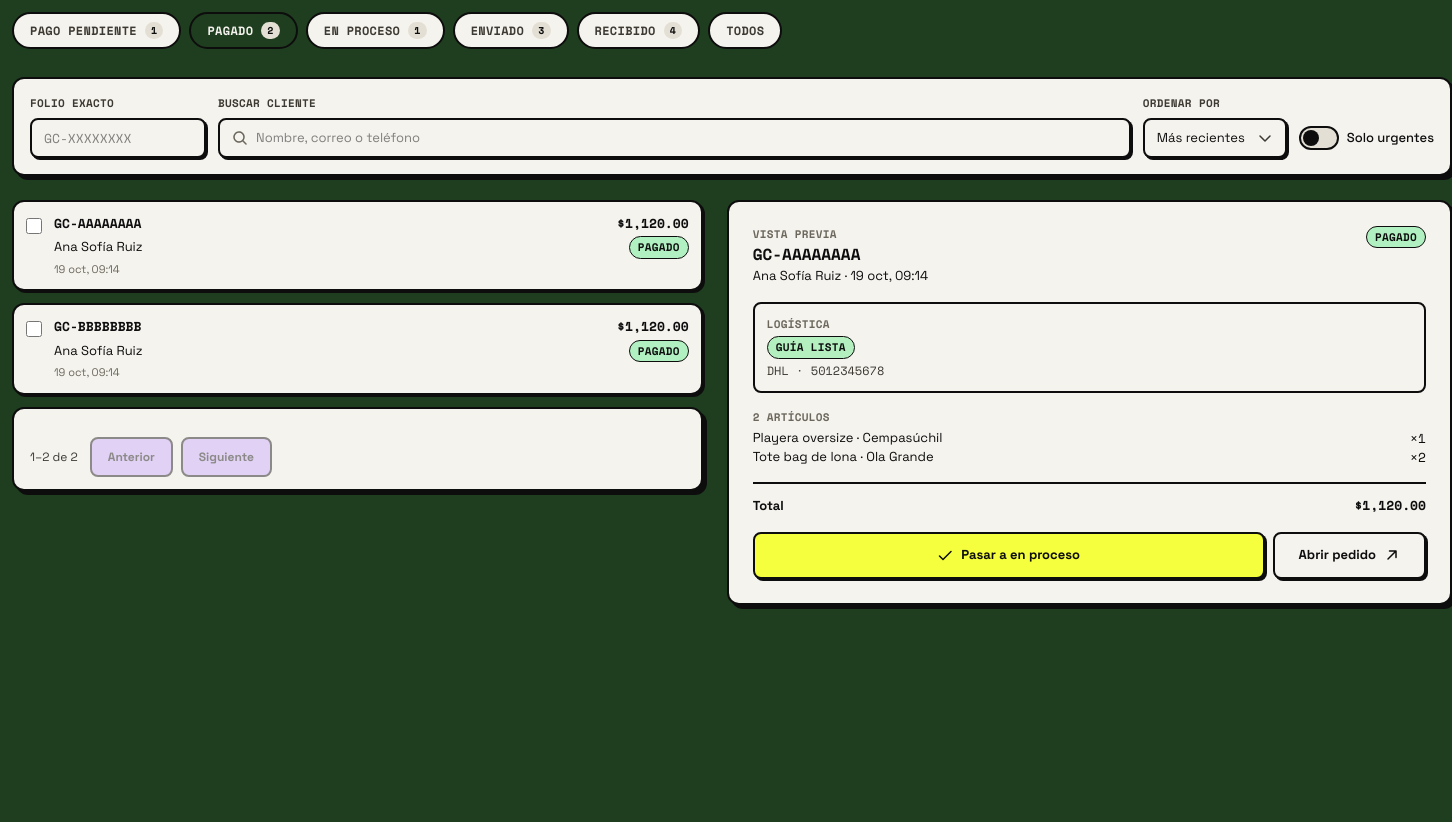
OrdersPage: vista previa, lote y estados › la vista previa muestra el primer pedido y cambia al elegir otro
What coordinates should you click on to do the following:
click the link "GC-BBBBBBBB $1,120.00 Ana Sofía Ruiz pagado 19 oct, 09:14"
I would click on:
 (98, 326)
Its box is [54,317,689,381].
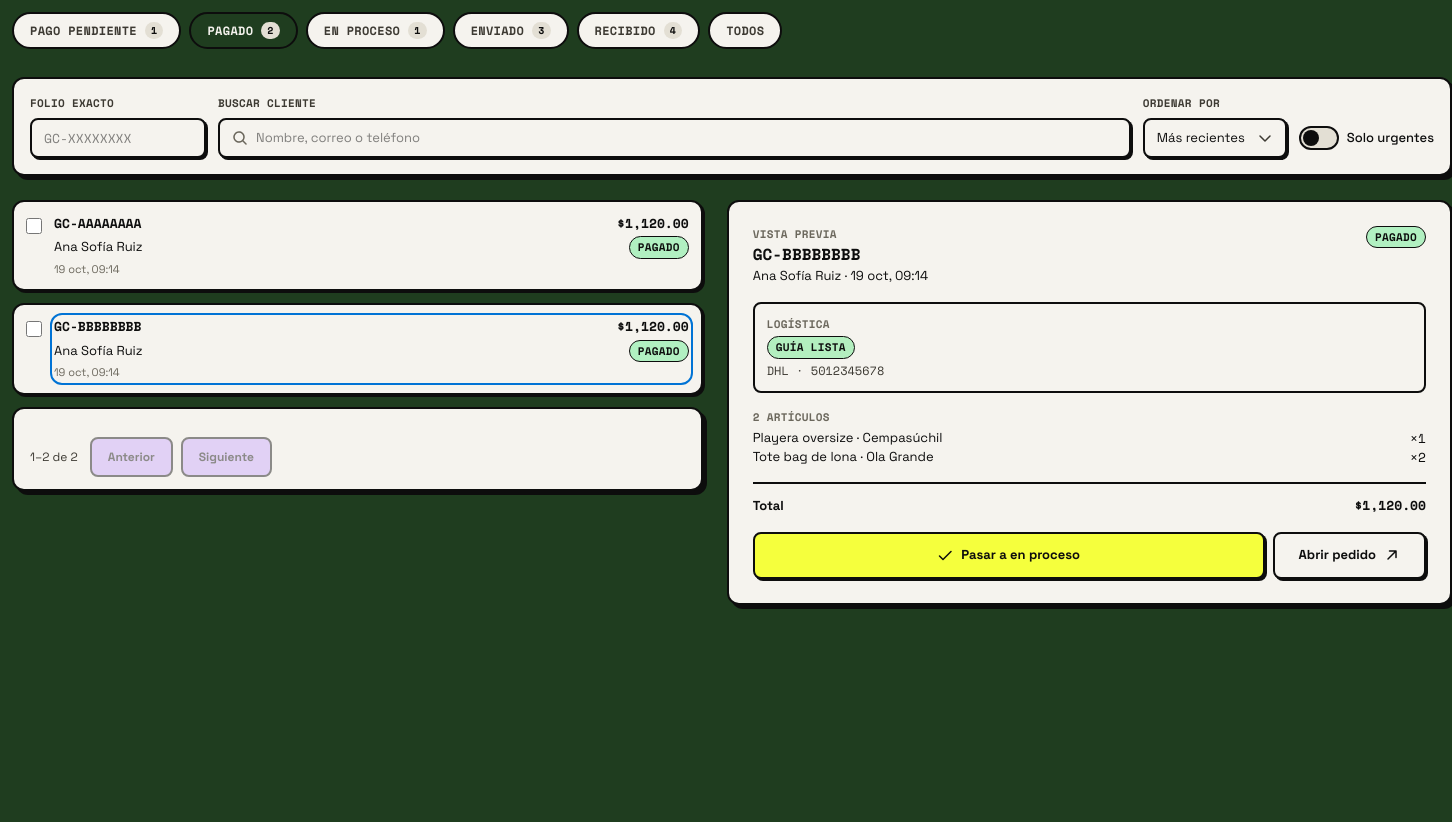
Result: the element named "Vista previa de GC-BBBBBBBB" is shown at [727,200,1451,604]
